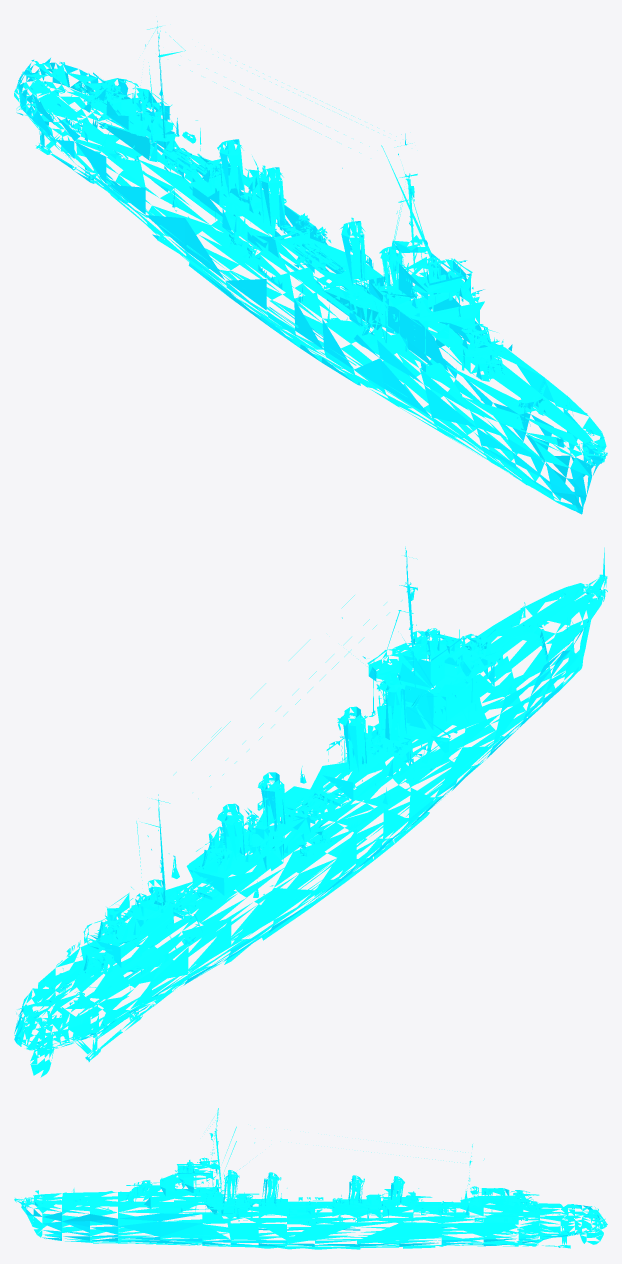
Rendered from Guepard.glb.
The picture shows the model from 3 angles, top to bottom: view 1: azimuth 30°, elevation 25°; view 2: azimuth 150°, elevation 25°; view 3: azimuth 270°, elevation 25°; orthographic projection. The views are drawn at different scales.
Size of the model in its own units: 0.9227 by 2.23 by 8.67.
